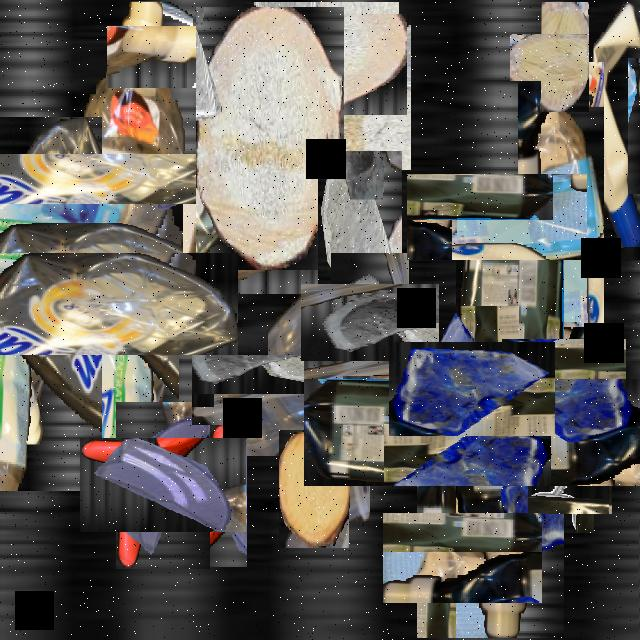glass: (98, 420, 228, 551), (407, 324, 537, 455), (400, 496, 524, 620), (318, 151, 402, 301), (316, 268, 424, 376), (610, 547, 640, 604), (628, 58, 640, 194)
metal: (118, 14, 204, 100), (537, 457, 603, 524)
plastic: (0, 77, 268, 370), (380, 302, 640, 562), (0, 185, 170, 422), (45, 164, 179, 448), (462, 118, 640, 315), (230, 317, 408, 494), (237, 8, 405, 177), (587, 2, 640, 247), (508, 333, 620, 446), (173, 425, 247, 567)
wood: (196, 7, 344, 270), (279, 430, 349, 548), (526, 18, 604, 96)
